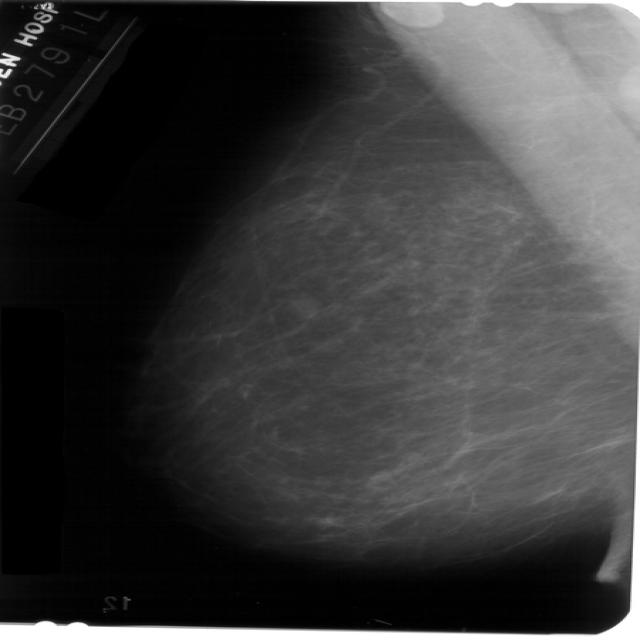tumour: (286, 291, 318, 320)
